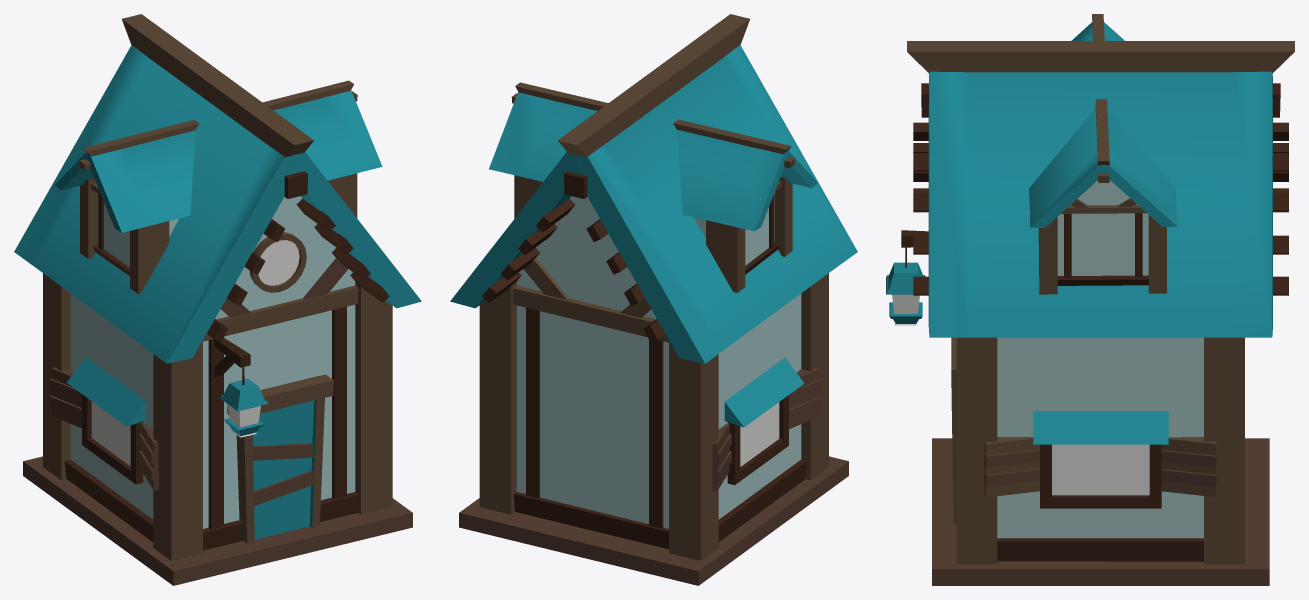
Rendered from HOUSE3.fbx.
3 renders of one model, left to right at view 1: azimuth 30°, elevation 25°; view 2: azimuth 150°, elevation 25°; view 3: azimuth 270°, elevation 25°, orthographic. The views are drawn at different scales.
Visible parts, largest first — view 1: pCube1, polySurface16, pCube26, pCube39, pCube2, pCube3, pCube20, pCube5, polySurface29, pCube23, pCube22, polySurface36 (+17 smaller); view 2: pCube1, polySurface16, pCube26, pCube5, pCube4, pCube20, pCube2, pCube7, polySurface29, pCube25, pCube15, polySurface36 (+10 smaller); view 3: pCube1, polySurface16, pCube26, pCube20, pCube3, pCube4, polySurface1, pCube9, polySurface8, pCube45, polySurface5, polySurface2 (+15 smaller).
Part boxes in pixels (x1=…): pCube1: x1=14, y1=45, x2=421, y2=528; polySurface16: x1=54, y1=90, x2=382, y2=267; pCube26: x1=23, y1=456, x2=412, y2=585; pCube39: x1=227, y1=374, x2=333, y2=543; pCube2: x1=153, y1=340, x2=202, y2=560; pCube3: x1=355, y1=282, x2=392, y2=514; pCube20: x1=122, y1=14, x2=313, y2=157; pCube5: x1=43, y1=273, x2=70, y2=480; polySurface29: x1=82, y1=394, x2=143, y2=484; pCube23: x1=332, y1=306, x2=346, y2=499; pCube22: x1=208, y1=339, x2=223, y2=529; polySurface36: x1=66, y1=357, x2=146, y2=426; pCube1: x1=450, y1=45, x2=857, y2=528; polySurface16: x1=489, y1=92, x2=817, y2=265; pCube26: x1=459, y1=456, x2=848, y2=585; pCube5: x1=669, y1=340, x2=718, y2=560; pCube4: x1=479, y1=282, x2=516, y2=514; pCube20: x1=558, y1=14, x2=749, y2=157; pCube2: x1=801, y1=273, x2=828, y2=480; pCube7: x1=513, y1=492, x2=668, y2=549; polySurface29: x1=727, y1=395, x2=788, y2=485; pCube25: x1=649, y1=339, x2=663, y2=528; pCube15: x1=513, y1=285, x2=668, y2=342; polySurface36: x1=724, y1=357, x2=804, y2=427; pCube1: x1=928, y1=71, x2=1272, y2=538; polySurface16: x1=1029, y1=22, x2=1177, y2=275; pCube26: x1=932, y1=438, x2=1269, y2=585; pCube20: x1=907, y1=41, x2=1294, y2=73; pCube3: x1=956, y1=337, x2=997, y2=564; pCube4: x1=1204, y1=337, x2=1244, y2=564; polySurface1: x1=1040, y1=444, x2=1161, y2=508; pCube9: x1=997, y1=538, x2=1203, y2=561; polySurface8: x1=1033, y1=411, x2=1168, y2=444; pCube45: x1=886, y1=262, x2=925, y2=325; polySurface5: x1=1161, y1=437, x2=1217, y2=497; polySurface2: x1=984, y1=437, x2=1039, y2=497.
Bounding box in the file's own units: 13.86 × 20.47 × 15.84.
